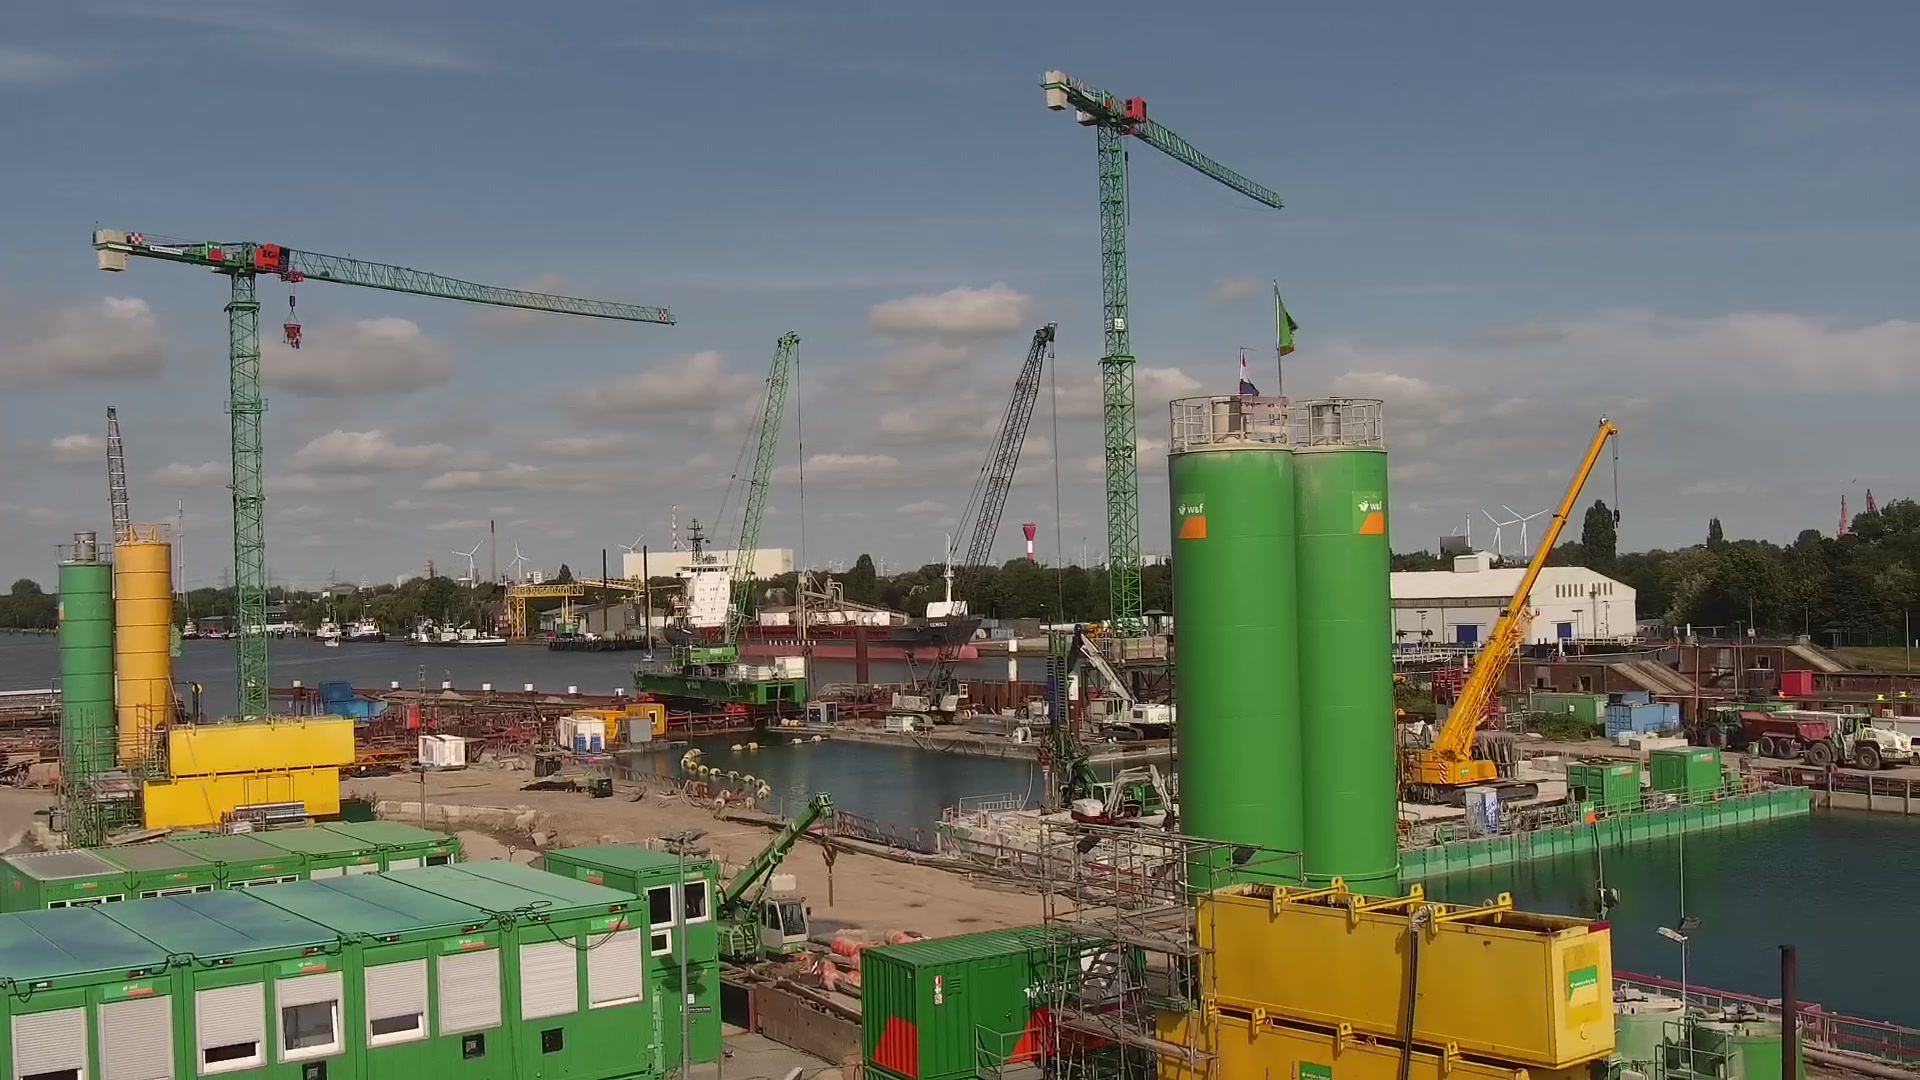land: (1396, 415, 1621, 807), (713, 790, 837, 963), (1065, 622, 1178, 740), (1068, 762, 1176, 829), (1805, 711, 1911, 771), (1683, 705, 1746, 749)
sea: (658, 516, 982, 661), (402, 611, 462, 647), (344, 603, 386, 642), (456, 618, 508, 645), (313, 604, 343, 644), (181, 612, 200, 640), (322, 634, 338, 647)
